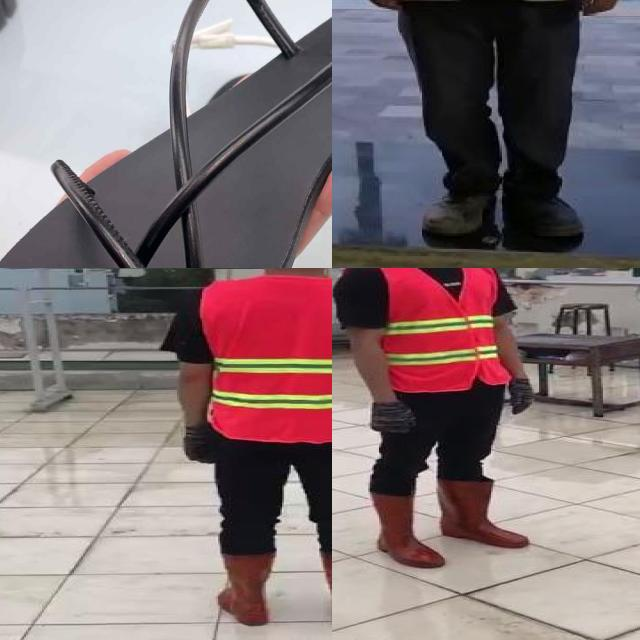Sandals: (0, 0, 332, 268)
boots: (355, 490, 447, 575), (436, 475, 534, 553), (220, 552, 284, 630), (315, 550, 332, 628)
hand_glove: (364, 399, 415, 437), (184, 422, 227, 467), (500, 381, 548, 417)
hand_noglove: (570, 0, 627, 18), (351, 0, 407, 16)
person: (343, 0, 635, 248), (166, 268, 332, 634), (332, 268, 528, 567)
shoes: (501, 181, 599, 241), (411, 180, 496, 238)
vest: (345, 268, 512, 393), (204, 282, 332, 438)
